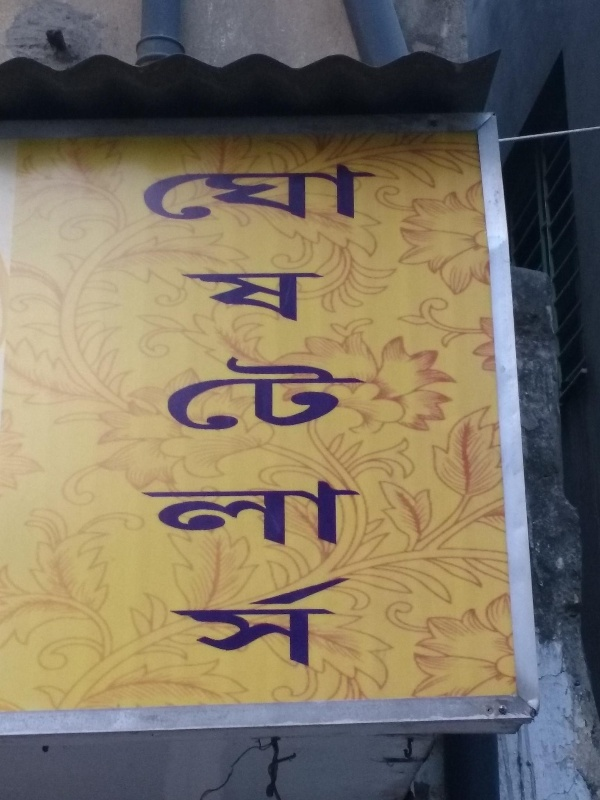text: (129, 154, 144, 674), (145, 154, 160, 674), (161, 154, 176, 674), (177, 154, 192, 674), (193, 154, 208, 674), (209, 154, 224, 674), (225, 154, 240, 674), (241, 154, 256, 674), (257, 154, 272, 674), (273, 154, 288, 674), (289, 154, 304, 674), (305, 154, 320, 674), (321, 154, 336, 674), (337, 154, 352, 674), (353, 154, 368, 674), (369, 154, 383, 674), (122, 154, 128, 674)
